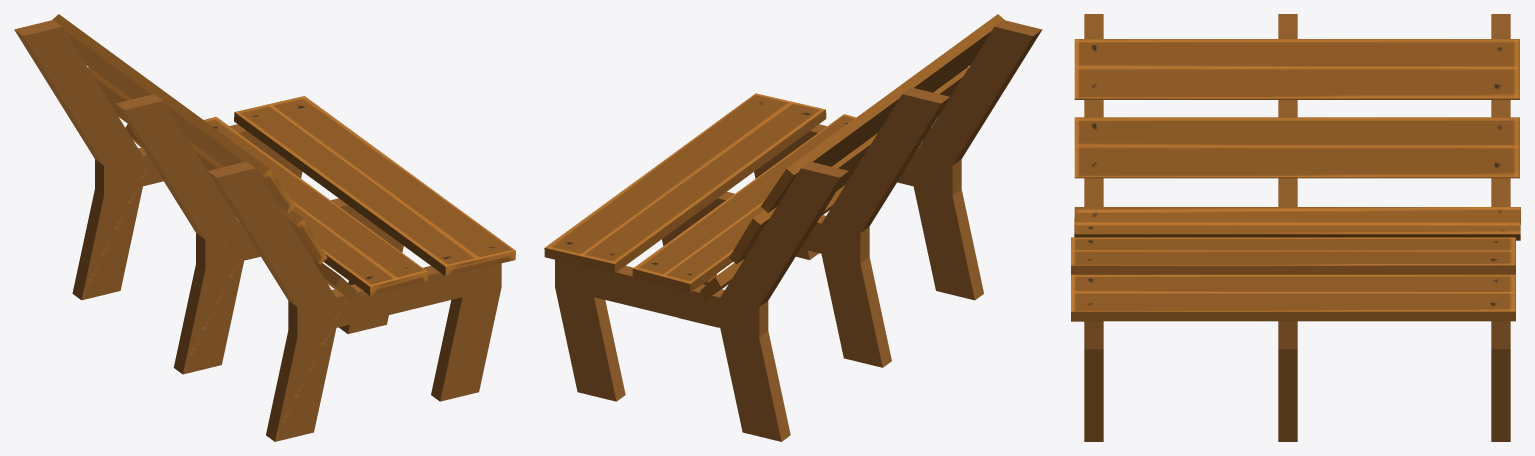
Rendered from banco_de_madeira.glb.
The picture shows the model from 3 angles, left to right: view 1: azimuth 30°, elevation 25°; view 2: azimuth 150°, elevation 25°; view 3: azimuth 270°, elevation 25°; orthographic projection. The views are drawn at different scales.
Size of the model in its own units: 3.47 by 3.16 by 4.39.
Materials: 1 (1 with a texture image).
